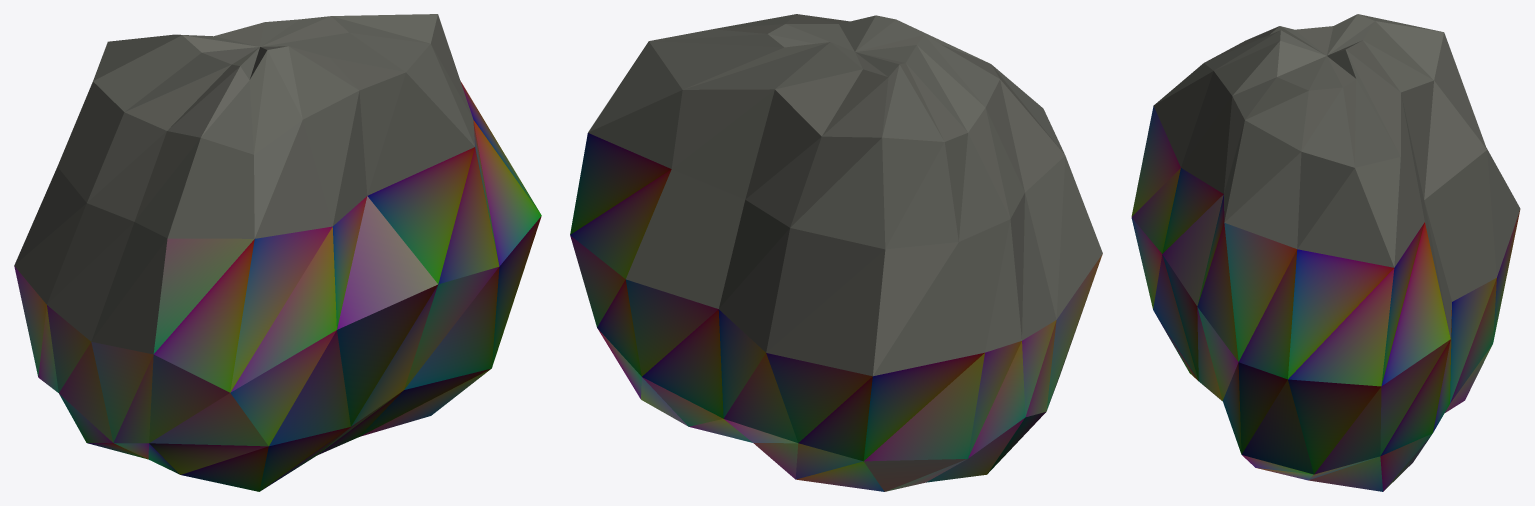
The model's file is rock_03.glb.
3 renders of one model, left to right at view 1: azimuth 30°, elevation 25°; view 2: azimuth 150°, elevation 25°; view 3: azimuth 270°, elevation 25°, orthographic. The views are drawn at different scales.
Visible parts, largest first — view 1: rock_03; view 2: rock_03; view 3: rock_03.
Boxes of the visible parts, x1,y1,x2,y2 form: rock_03: (14, 14, 541, 491); rock_03: (570, 14, 1102, 491); rock_03: (1131, 14, 1520, 491).
Bounding box in the file's own units: 1.05 × 0.8701 × 0.8319.
